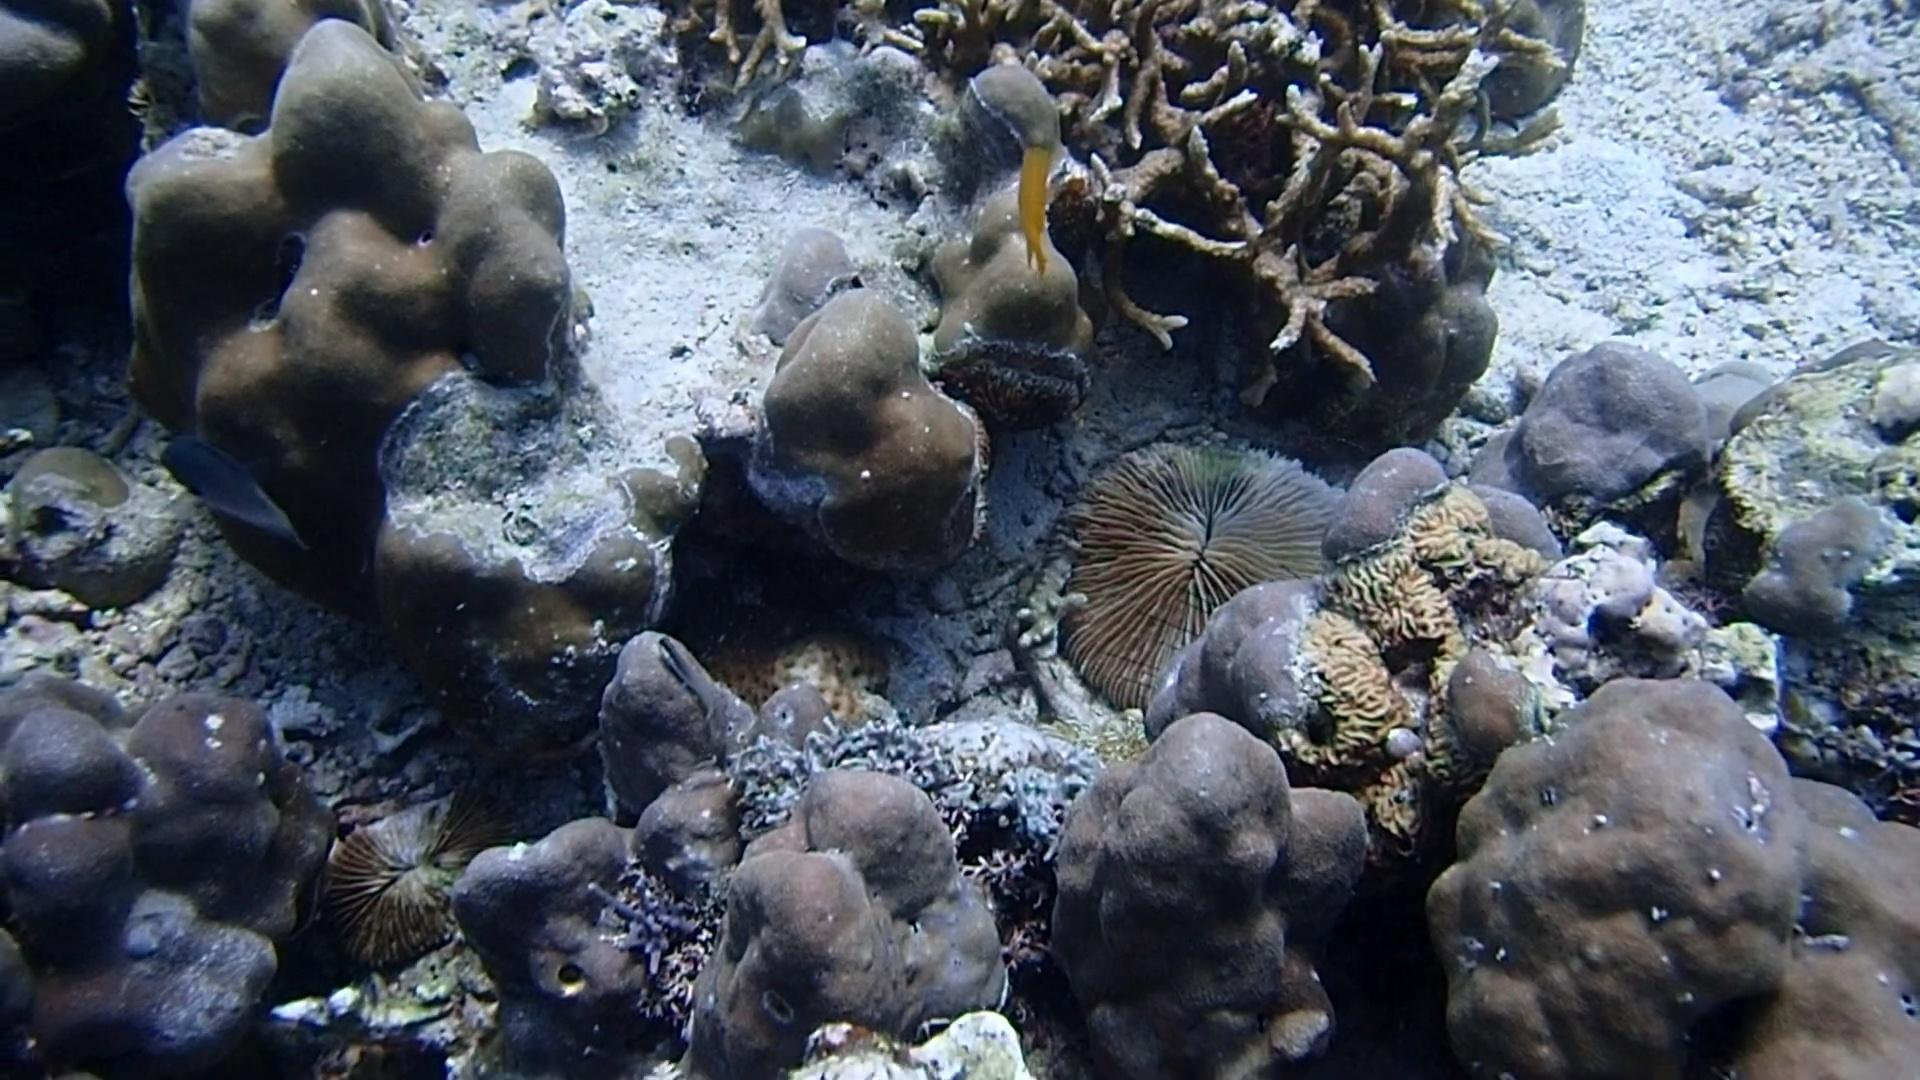Blue Fish Two: (146, 429, 324, 568)
Yellow Fish: (1009, 133, 1059, 298)
